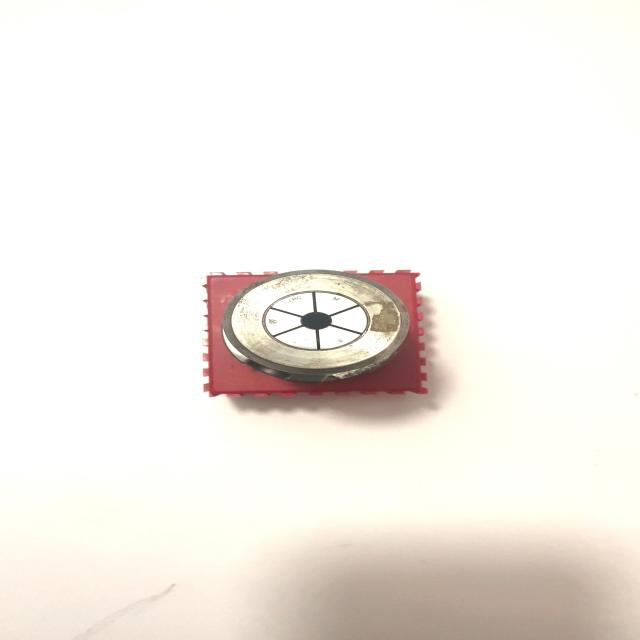Filled_Slot: (220, 270, 409, 382)
